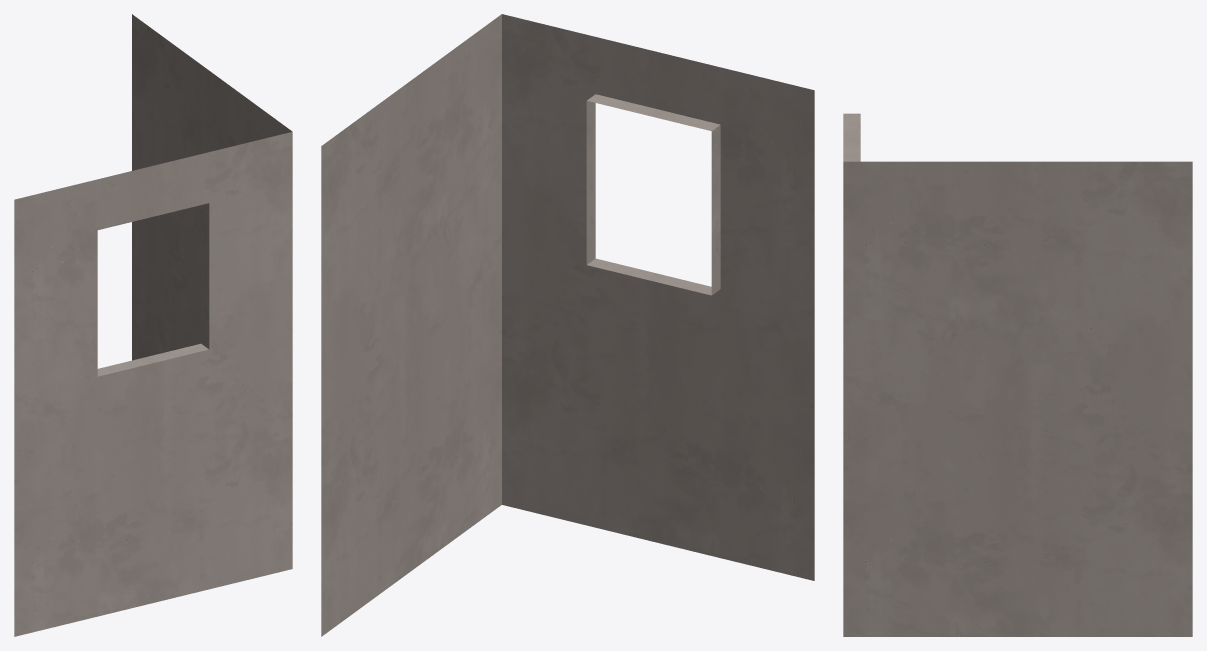
The model's file is SM_ENV_K1_WALL_WINDOW_CORNER_2X3_02.fbx.
3 views of the same model, side by side, from view 1: azimuth 30°, elevation 25°; view 2: azimuth 150°, elevation 25°; view 3: azimuth 270°, elevation 25° (orthographic). The views are drawn at different scales.
Parts seen in each view (by area): view 1: SM_ENV_K1_WALL_WINDOW_CORNER_2X3_02; view 2: SM_ENV_K1_WALL_WINDOW_CORNER_2X3_02; view 3: SM_ENV_K1_WALL_WINDOW_CORNER_2X3_02.
Boxes of the visible parts, box(x1,y1,x2,y2) form: SM_ENV_K1_WALL_WINDOW_CORNER_2X3_02: box(14, 14, 292, 636); SM_ENV_K1_WALL_WINDOW_CORNER_2X3_02: box(321, 14, 814, 636); SM_ENV_K1_WALL_WINDOW_CORNER_2X3_02: box(843, 113, 1192, 636).
Size of the model in its own units: 2 by 3 by 2.
